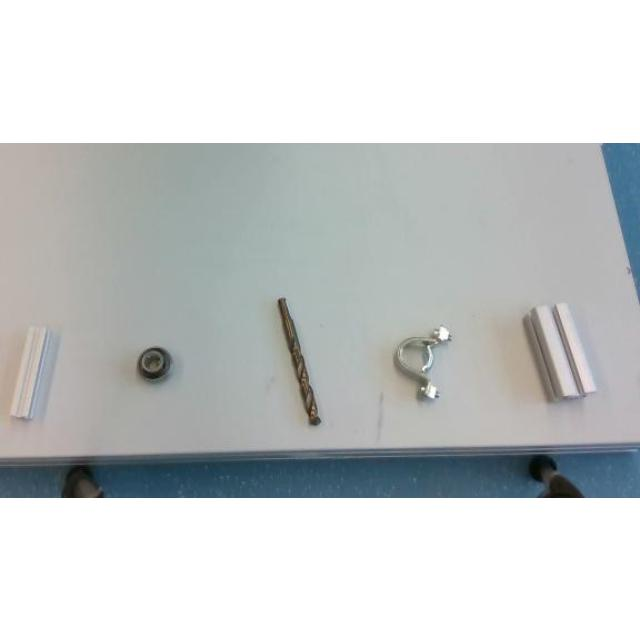Bearing2: (136, 345, 172, 381)
Drill: (278, 296, 320, 424)
F20_20_G: (10, 325, 50, 417)
Housing: (393, 324, 451, 398)
S40_40_G: (524, 302, 596, 400)
